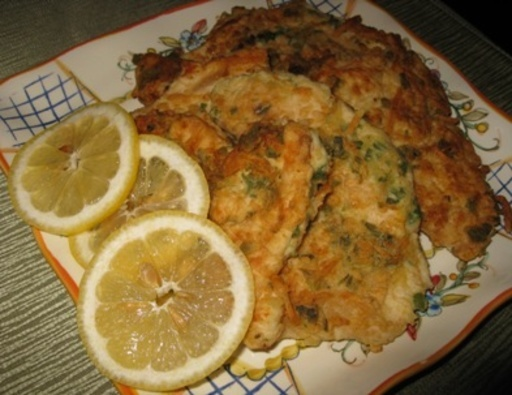background: (6, 0, 409, 242)
